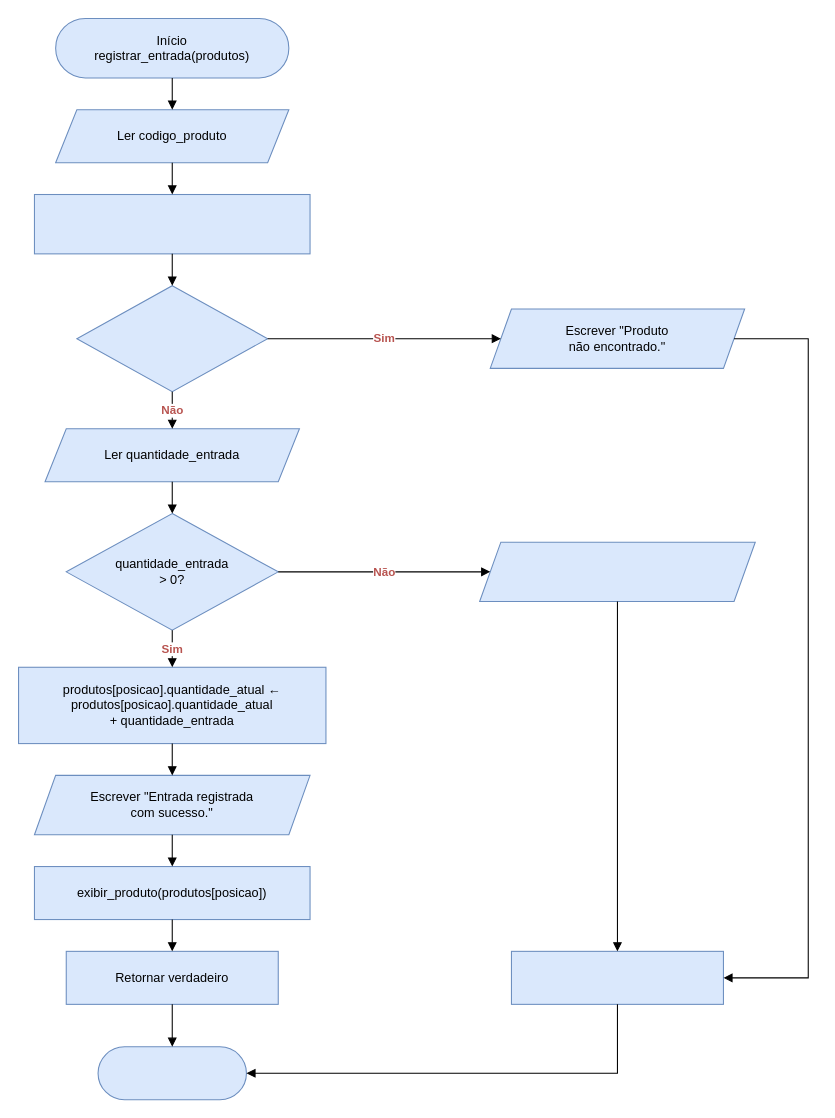
The diagram is 835 pixels wide and 1118 high, and some of its shapes have lost their labels. The shapes that lost their labels are listed below. From the top down, each one's box as (x1, y1, x2, y2) in pixels, then its label:
(33, 193, 310, 254): posicao ← buscar_produto( produtos, codigo_produto)
(76, 285, 268, 392): posicao = -1?
(479, 541, 755, 602): Escrever "A quantidade deve ser maior que zero."
(510, 950, 723, 1004): Retornar falso
(97, 1046, 246, 1100): Fim
